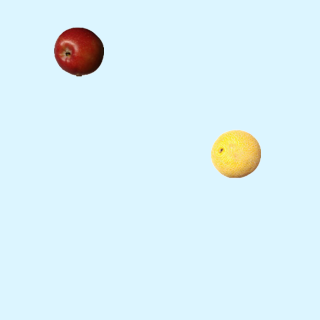Apple Braeburn: (53, 26, 103, 76)
Cantaloupe 1: (210, 128, 260, 178)
